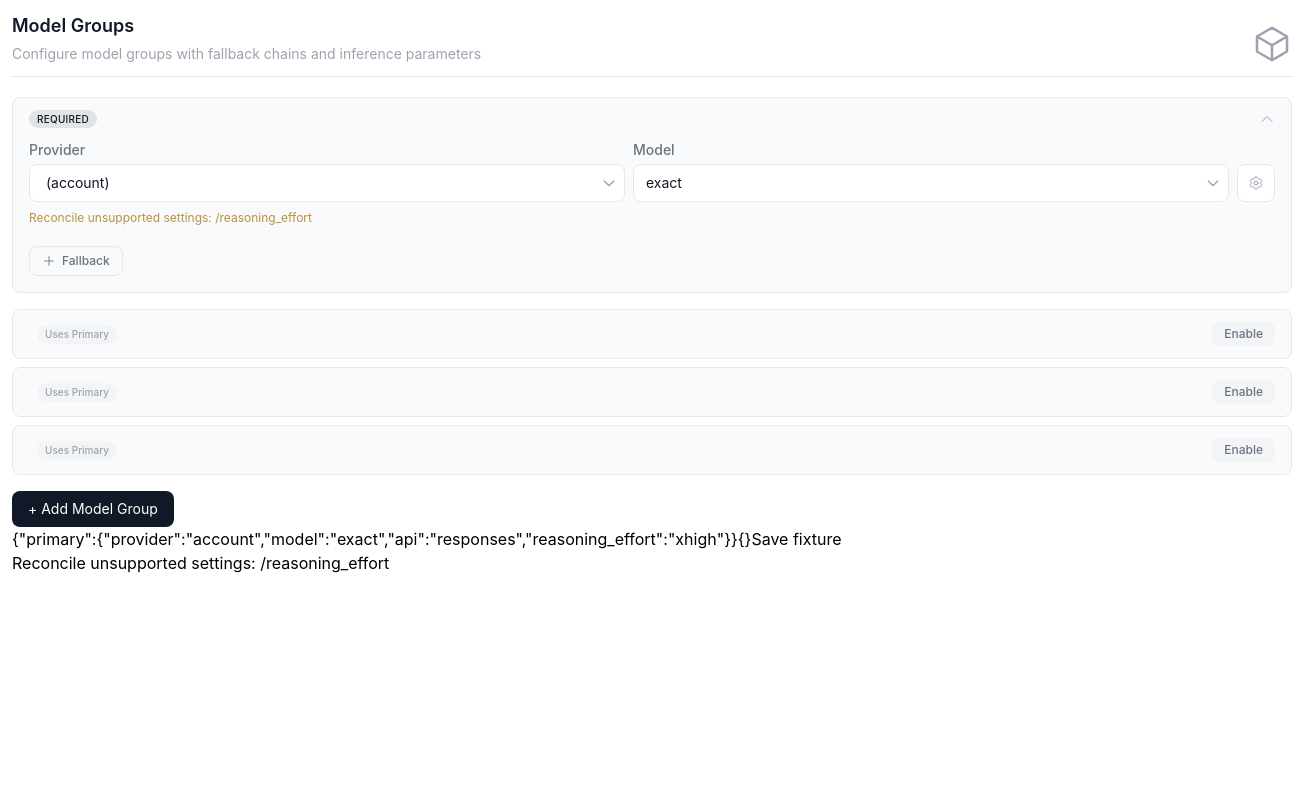
Test: waits for a manually selected model's settings before resetting incompatible values
The image size is (1304, 812).
Replace the text in the dropdown labelled "Model" with "manual-new" at [931, 183], box [633, 164, 1229, 202]
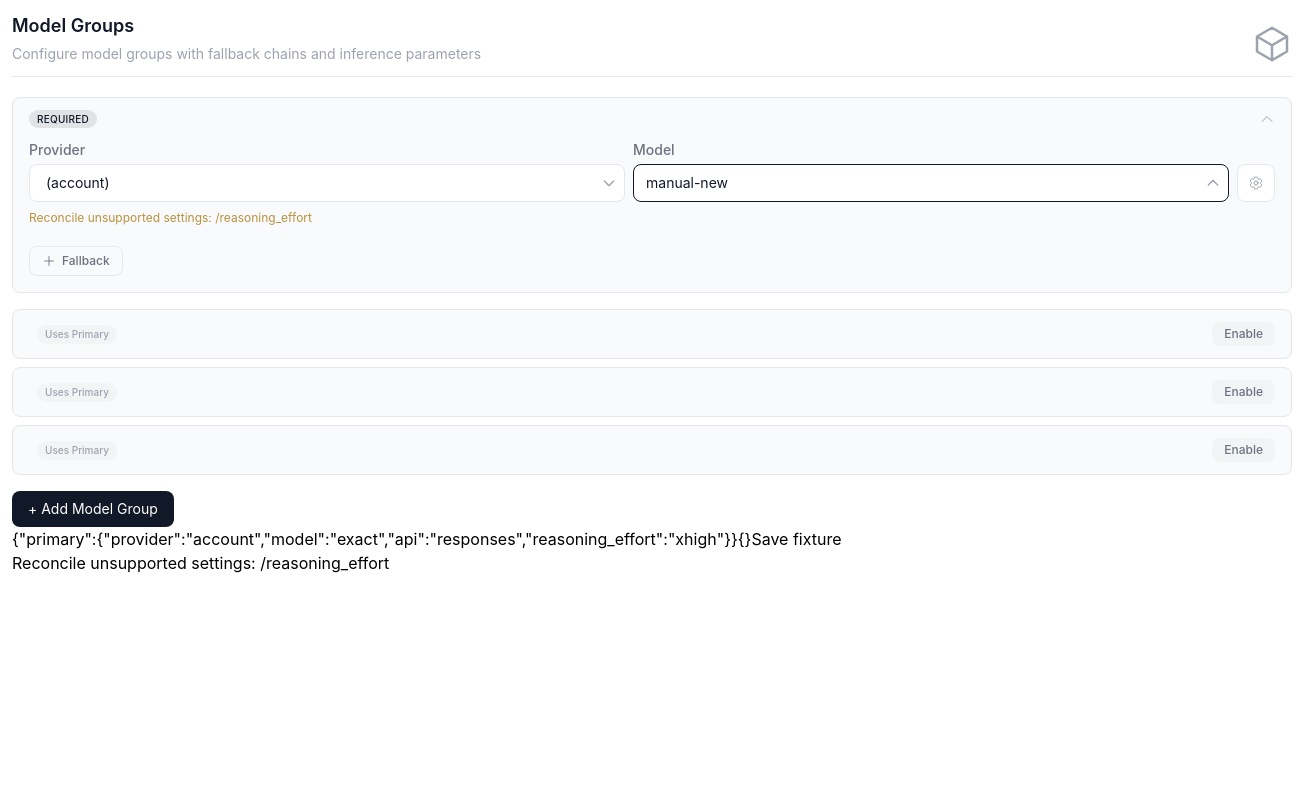
Leave the dropdown labelled "Model", box [633, 164, 1229, 202]
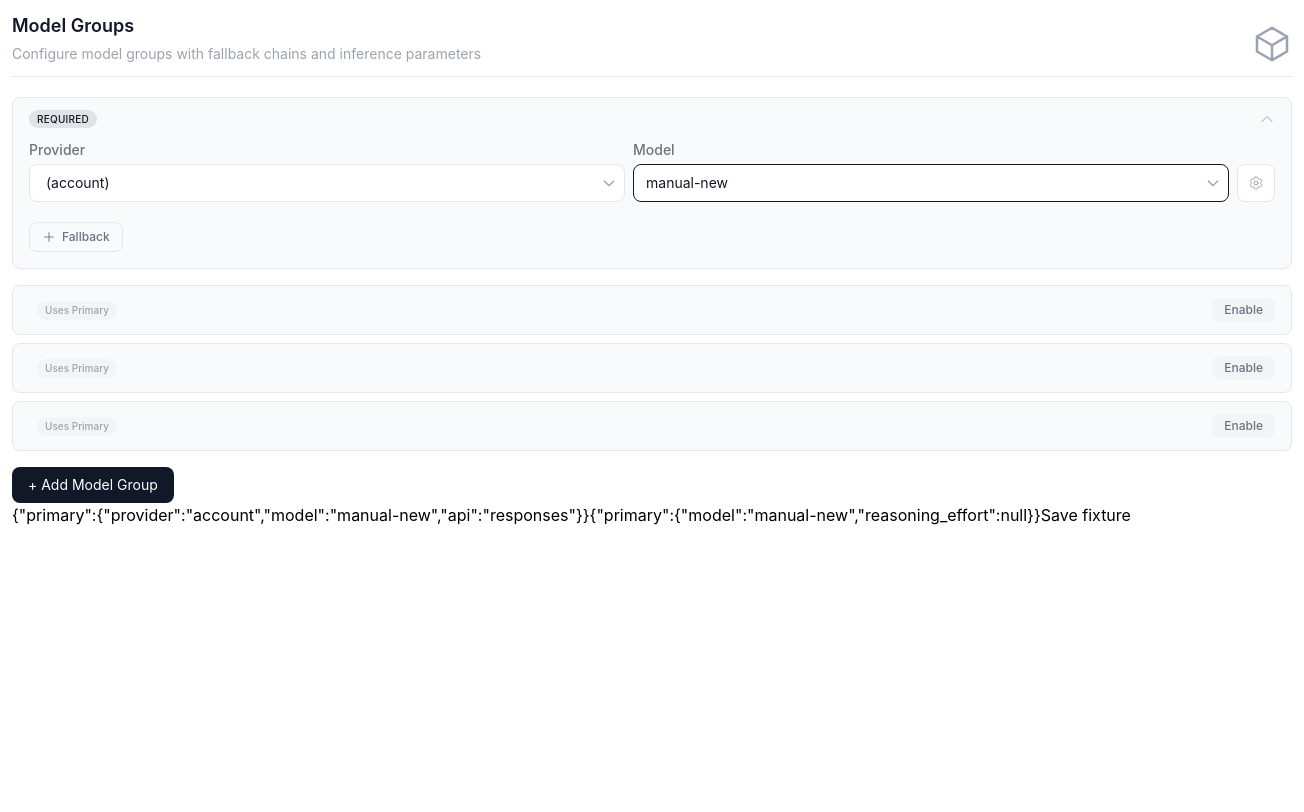
Result: the button "Save fixture" is enabled at [1041, 503, 1131, 527]
